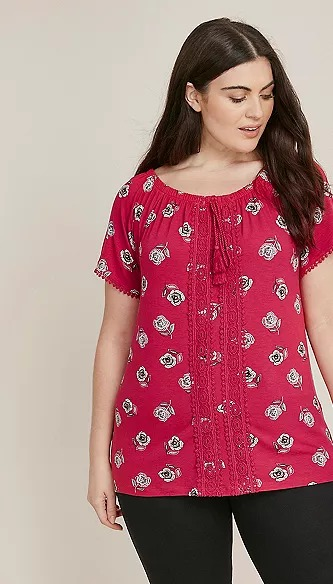C_short blouse: (93, 165, 333, 498)
